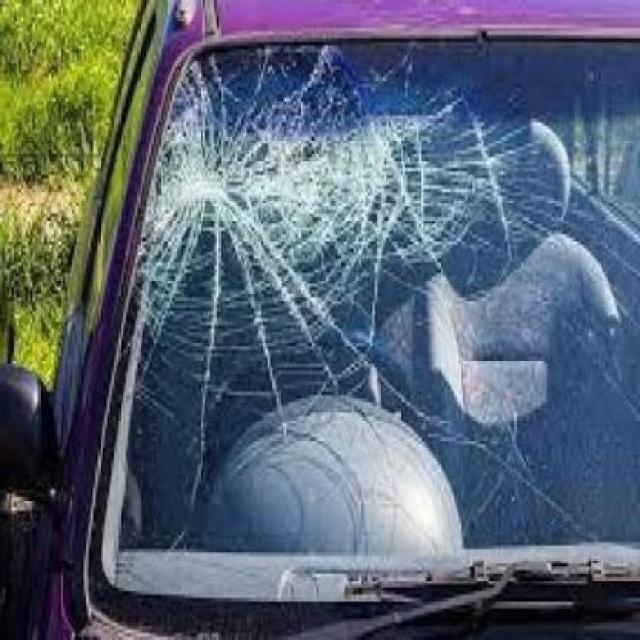damage: (149, 87, 384, 332)
